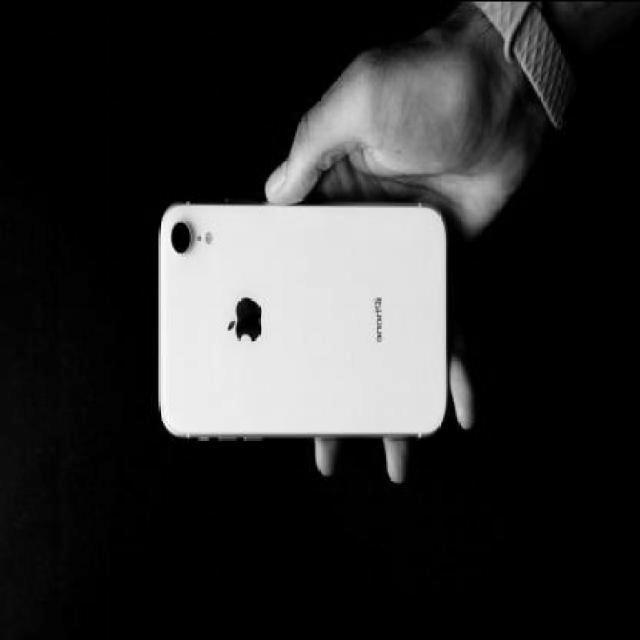fake: (153, 198, 447, 434)
